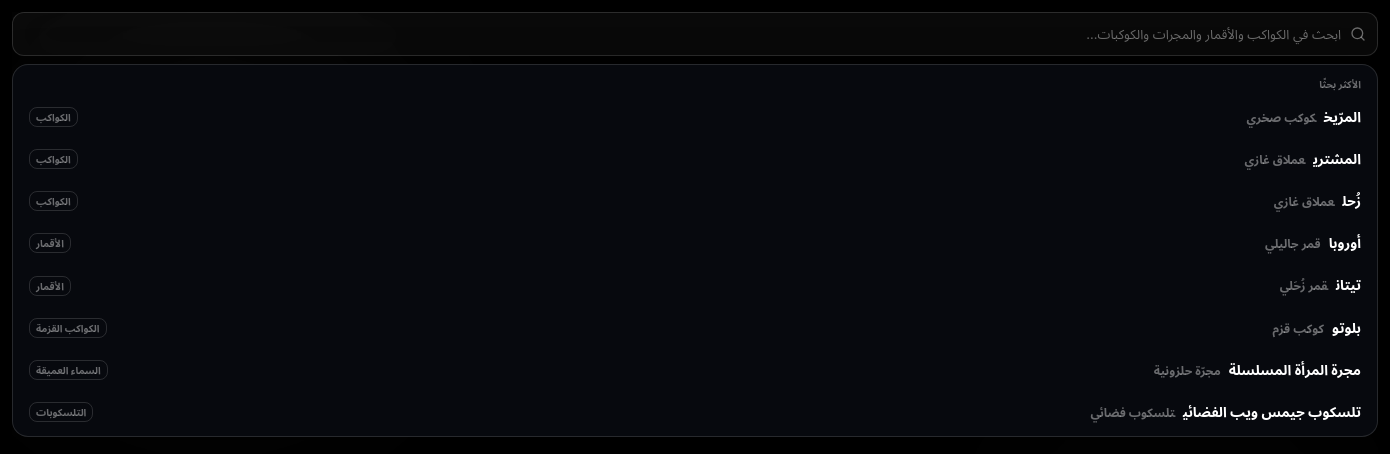
Test: search › says so in Arabic when nothing matches
Type "zzzzz" into the dropdown at (695, 34), box x1=12 y1=12 x2=1378 y2=56
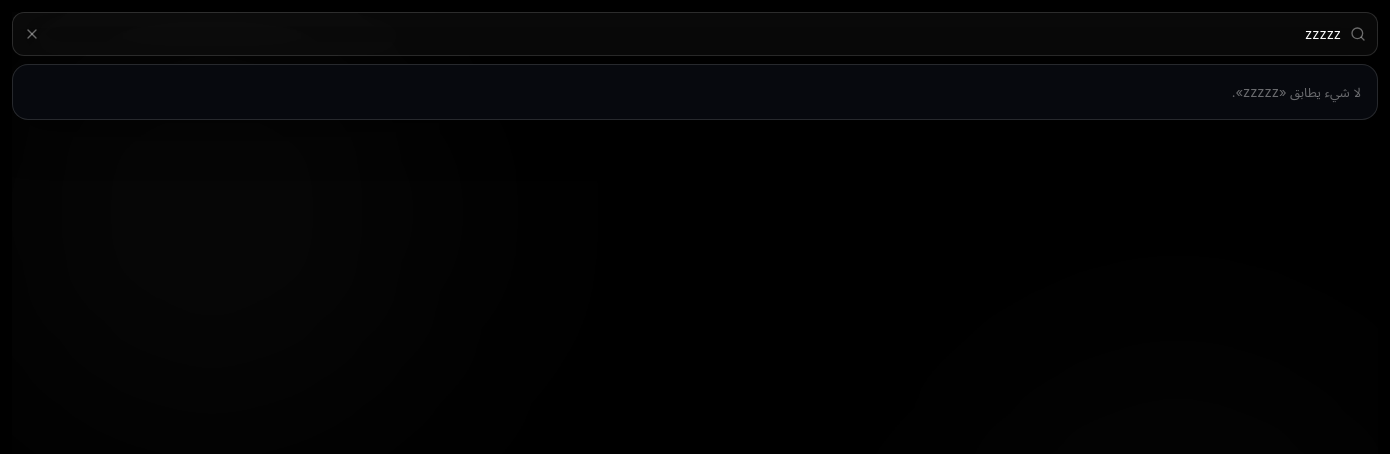
Check: the text "لا شيء يطابق «zzzzz»." is shown, box x1=1232 y1=84 x2=1361 y2=100
